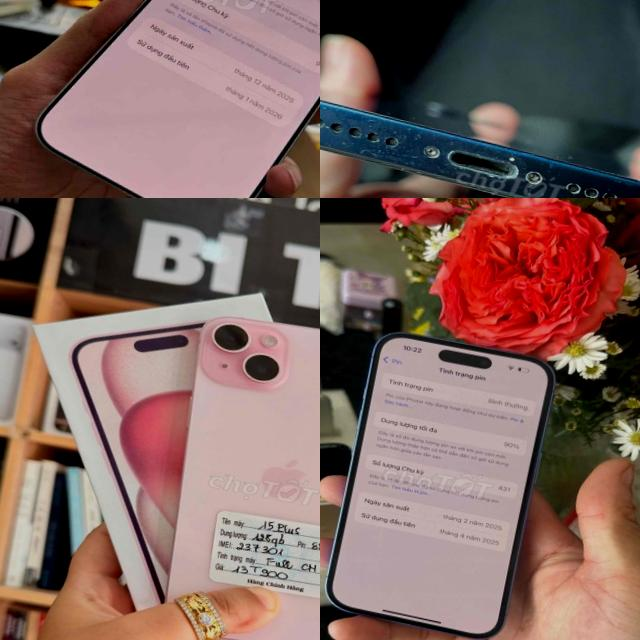scratch: (320, 85, 640, 198)
